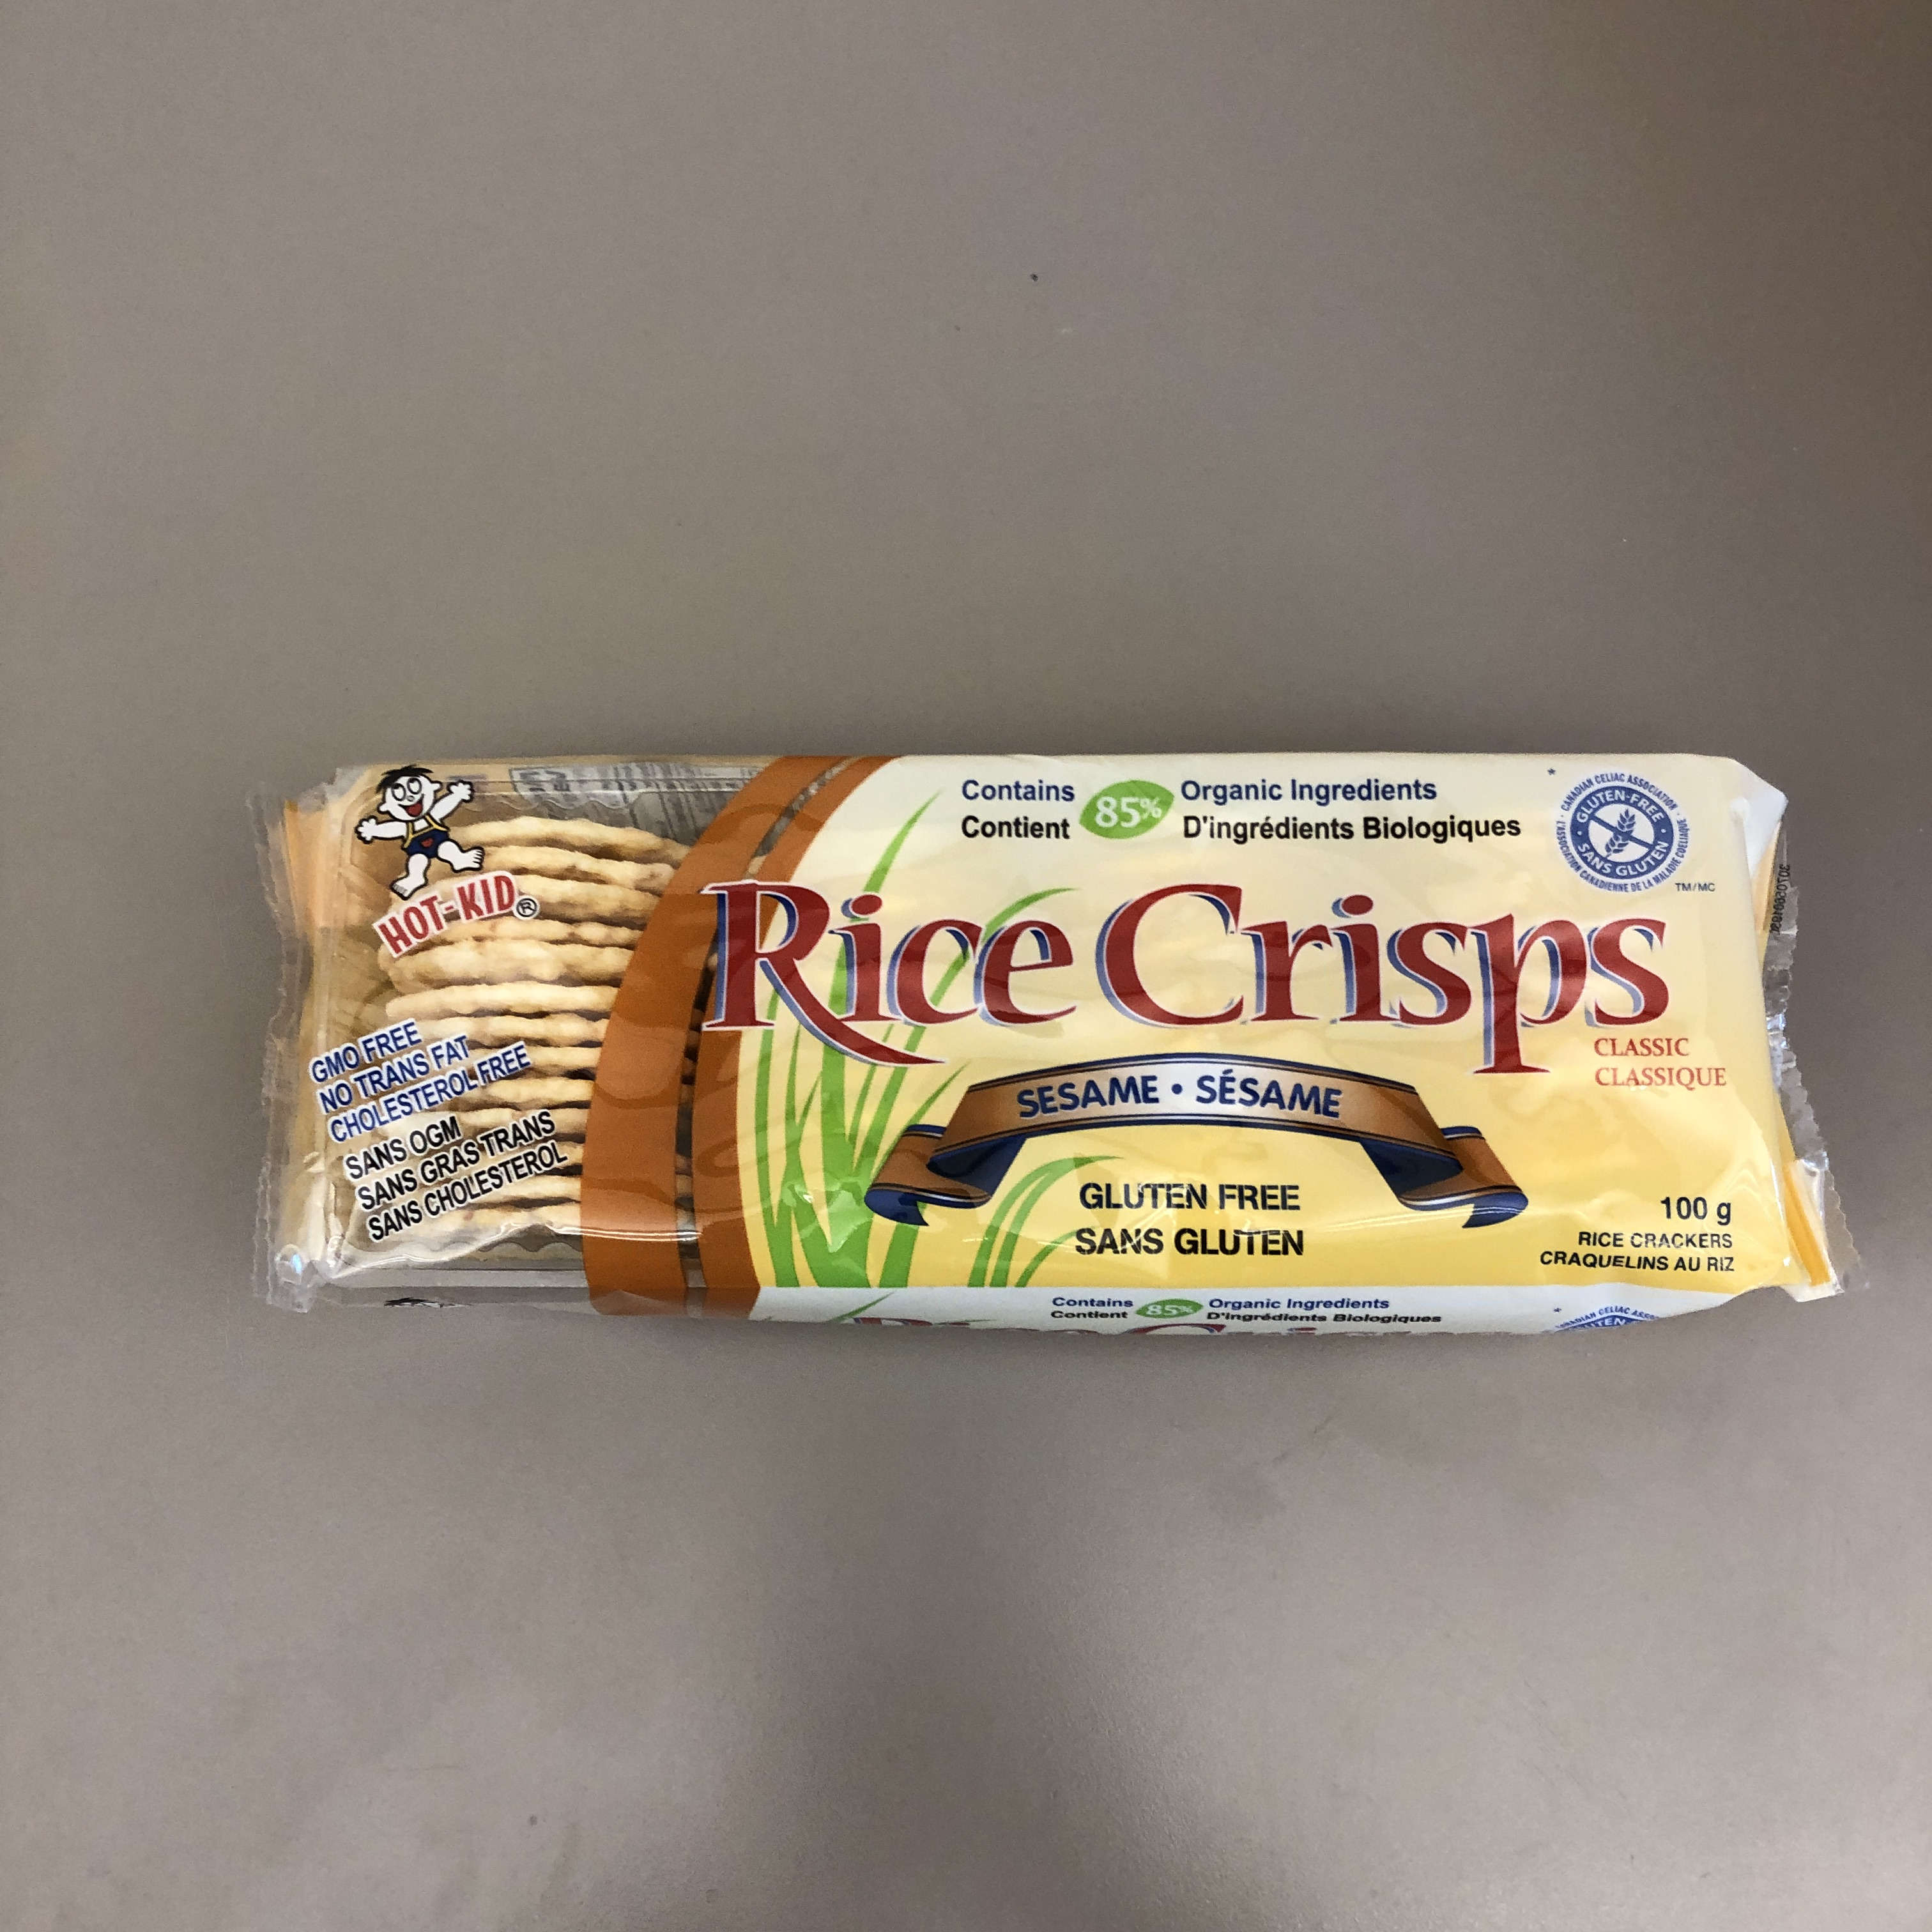hot_kid_rice_crisps_sesame: (746, 118, 1337, 1672)
